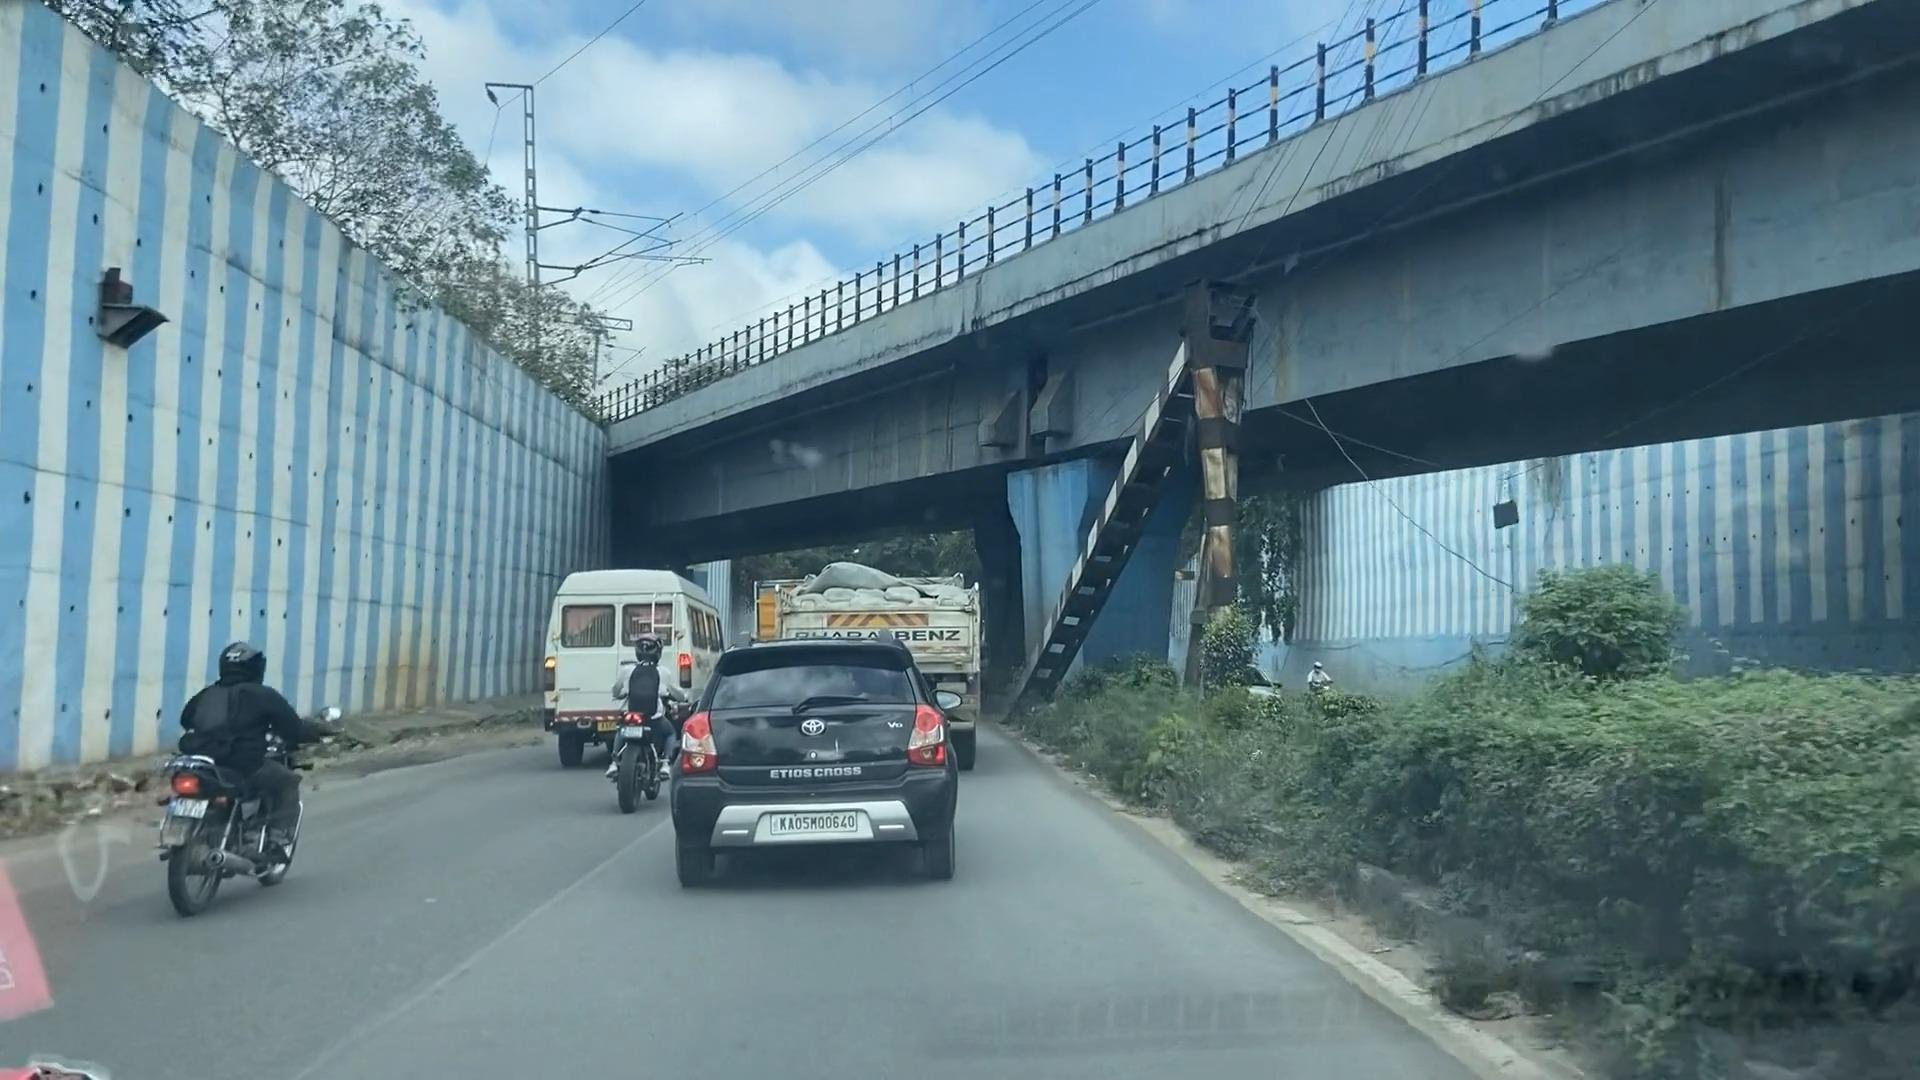HMV: (545, 560, 716, 760)
LMV: (676, 620, 986, 890), (140, 630, 364, 927), (612, 626, 690, 825)
